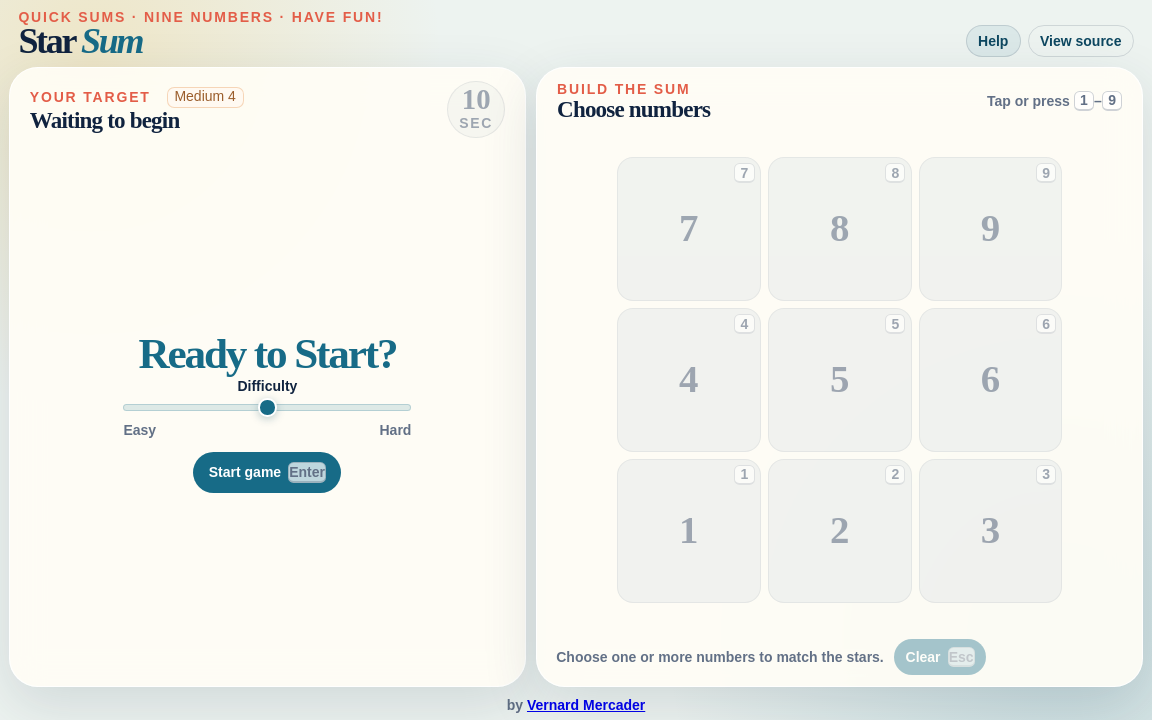
Test case: core gameplay › ends the game when the timer expires
This screenshot has width=1152, height=720.
Set the slider labelled "Difficulty" to "7". click: (403, 408)
box: [123,398,411,418]
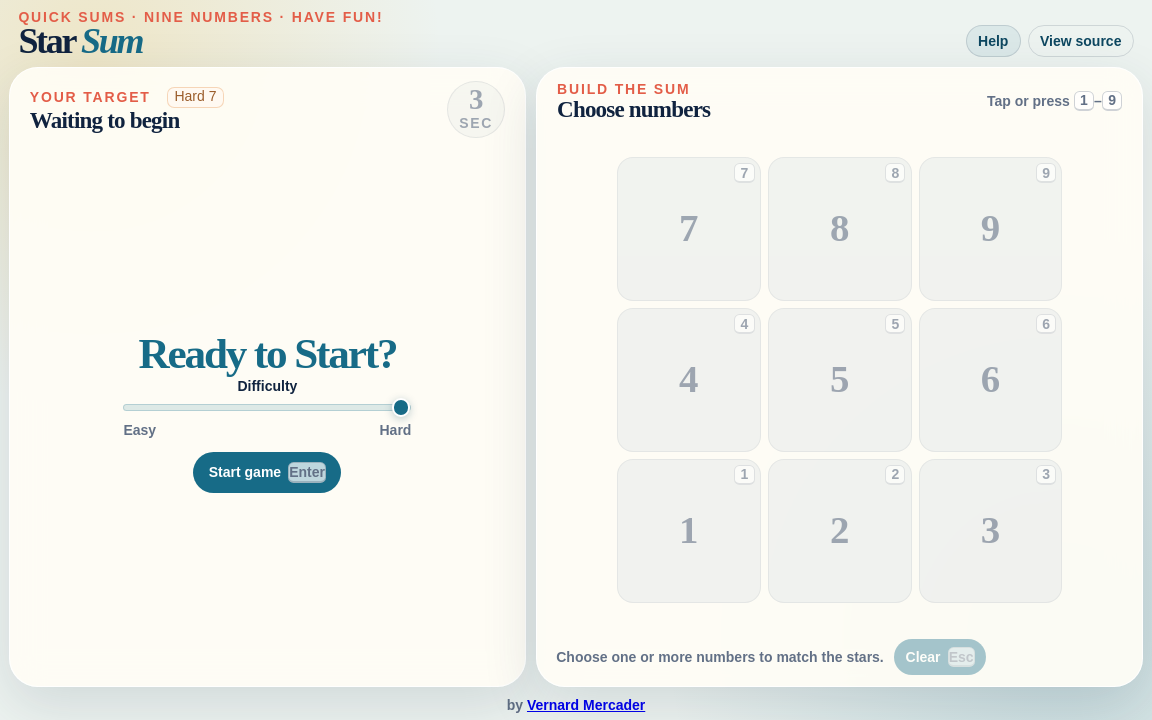
Press Enter
Wait 3000 ms
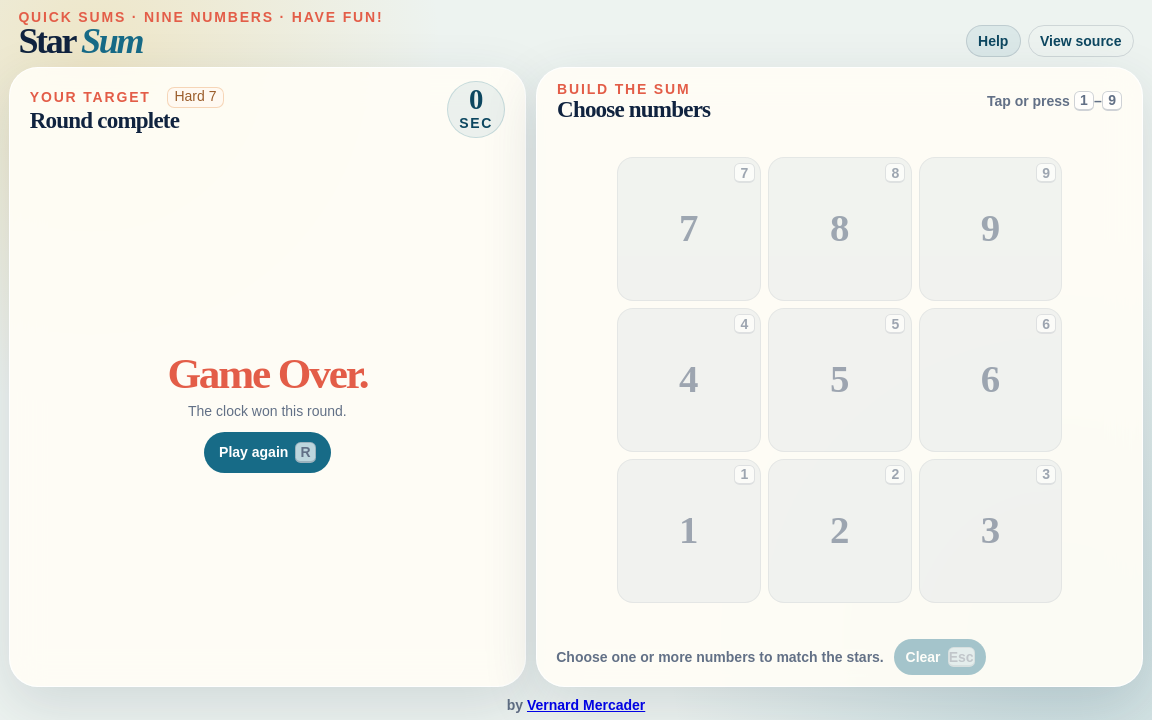
Check: the label "Difficulty" is gone
Check: the text "Game Over." is shown, box [167,349,367,398]
Check: the button "Play again R" is shown, box [204,432,331,473]
Press r
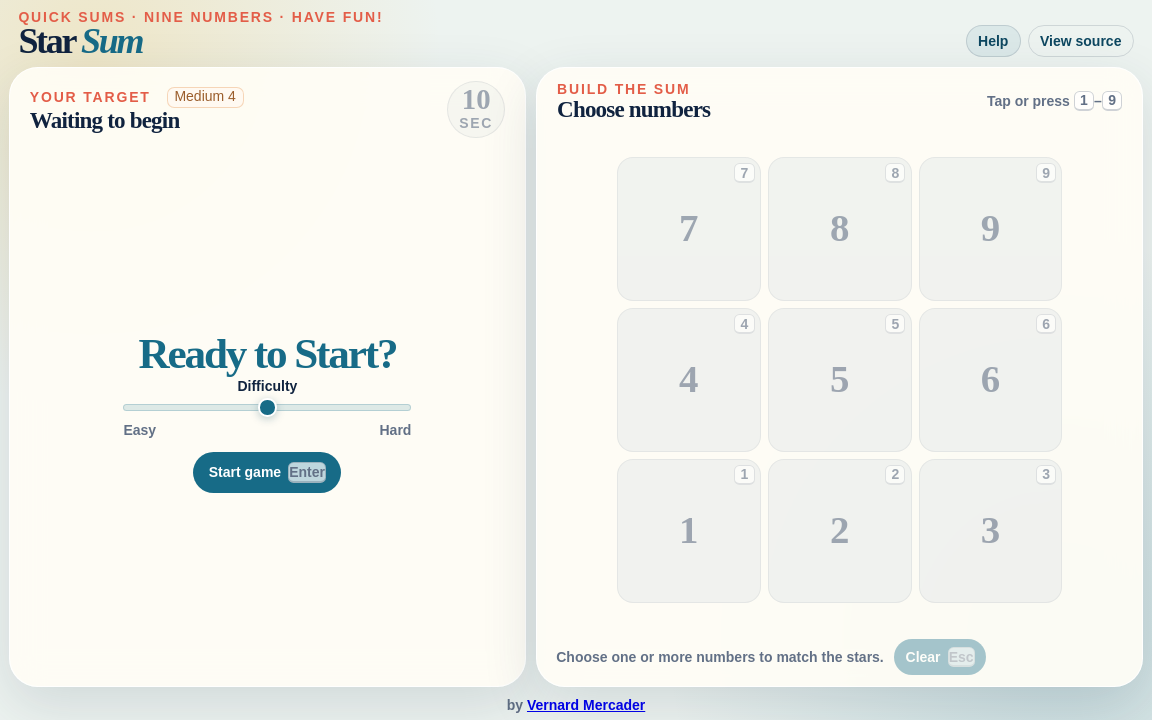
Check: the text "Ready to Start?" is shown, box [138,329,396,378]
Check: the slider labelled "Difficulty" holds "4", box [123,398,411,418]
